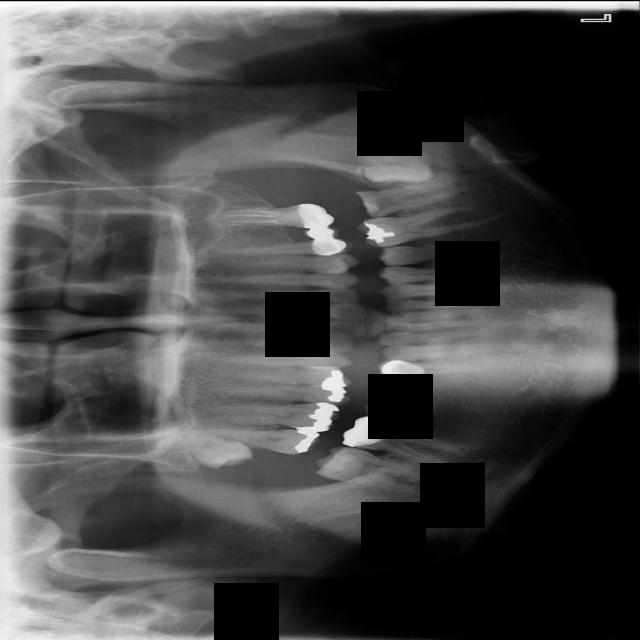3M ESPE Implant: (158, 421, 256, 479)
52: (337, 347, 427, 463), (289, 192, 349, 264), (284, 394, 343, 458), (316, 364, 354, 405), (358, 219, 396, 249), (317, 293, 324, 298), (312, 341, 320, 345)
73: (223, 200, 305, 227), (586, 32, 594, 36)
BioHorizons Implant: (221, 200, 336, 235)
Biomet 3i Implant: (358, 140, 435, 184)
Blue Sky Bio Implant: (355, 179, 452, 219)
Caries: (208, 428, 321, 454)
Implant: (340, 408, 463, 470)
Keystone Dental Implant: (313, 440, 432, 497)
